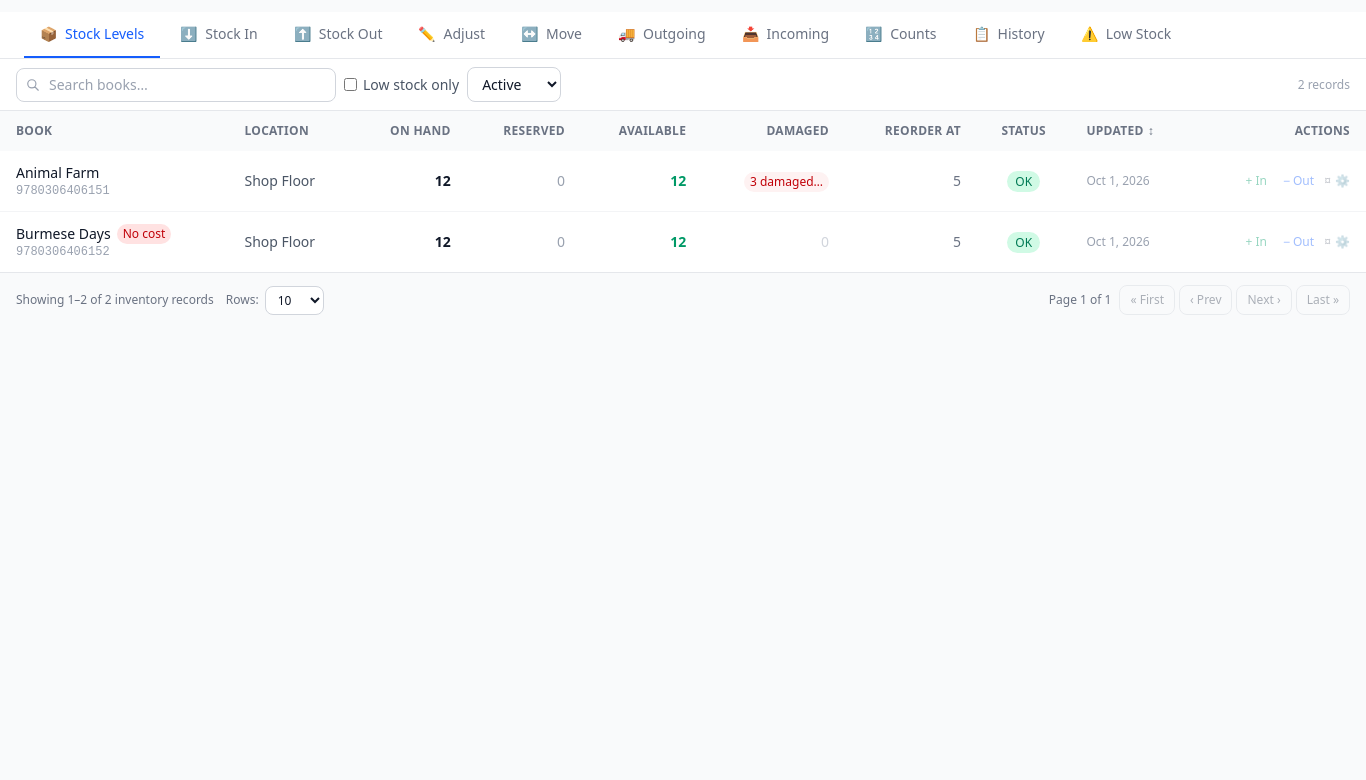
Test: Inventory: reorder points › checks the reorder point before sending (was: an empty box was sent and refused)
Expected: the text "Animal Farm" is shown, [16, 163, 99, 183]
Click the button "⚙" in the row of "Animal Farm" at (1342, 181), box [1335, 173, 1350, 189]
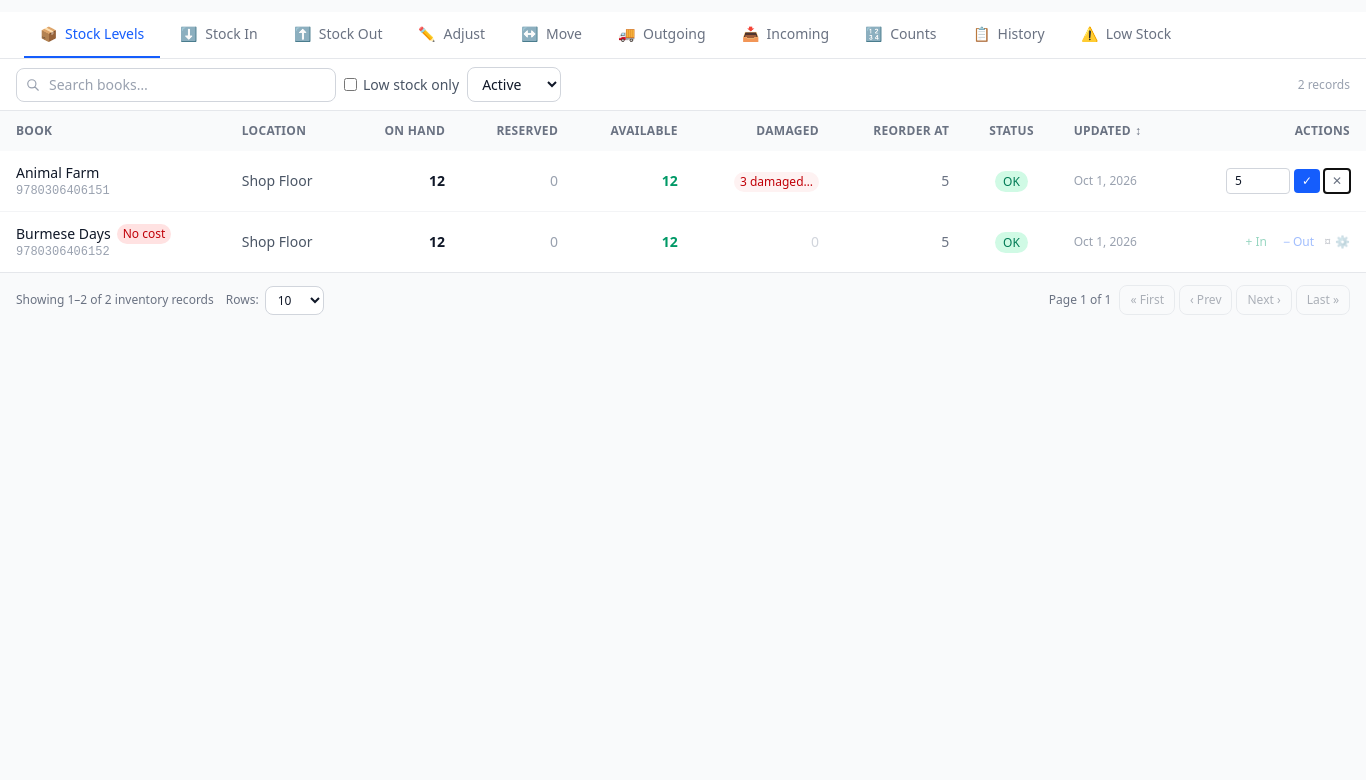
Clear the number field named "Reorder point" at (1258, 181), box [1226, 168, 1290, 194]
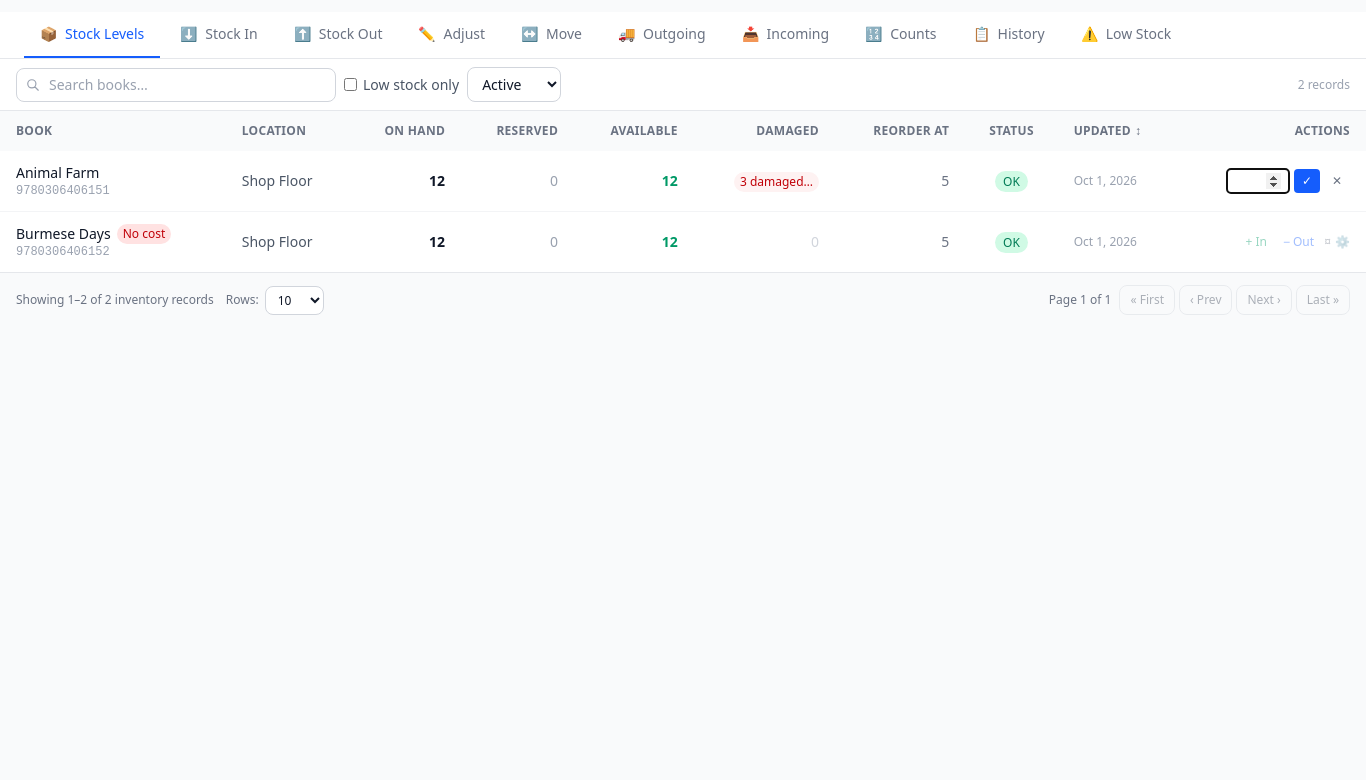
Click the button "✓" at (1307, 181), box [1294, 169, 1320, 193]
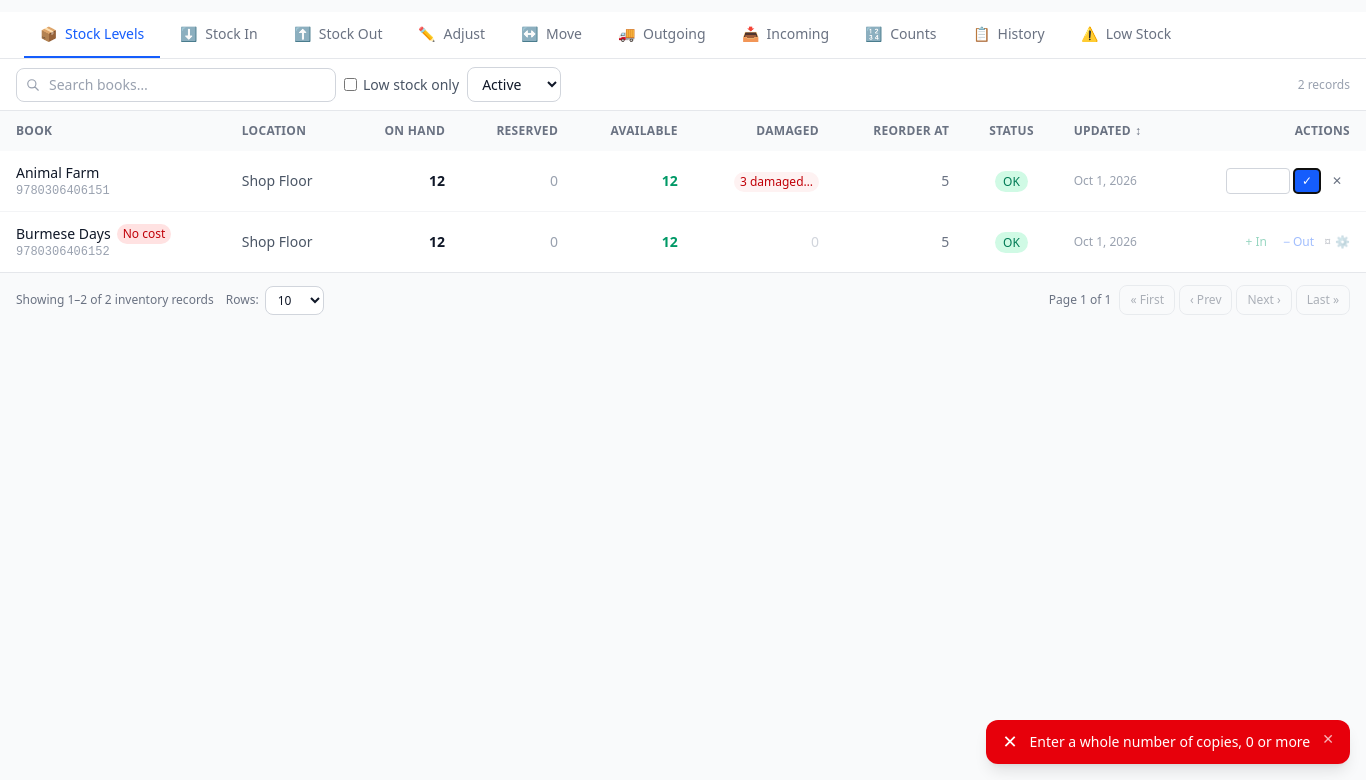
Result: the text "Enter a whole number of copies, 0 or more" is shown at [1030, 732, 1310, 752]
